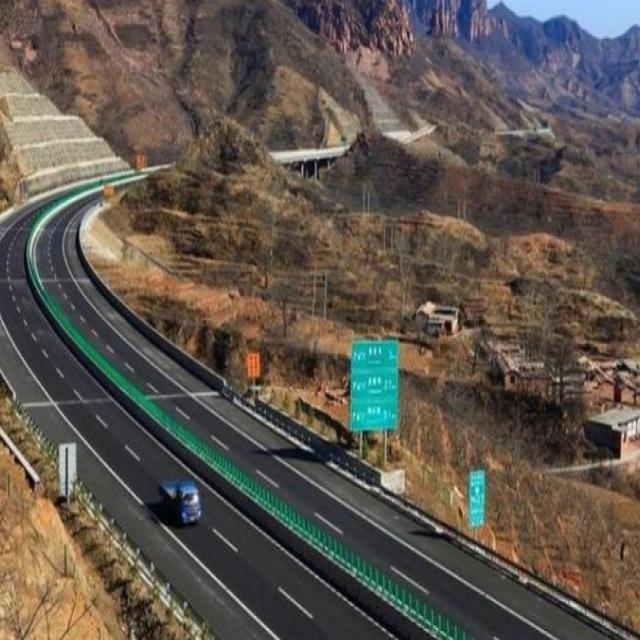point: (9, 101, 155, 272)
